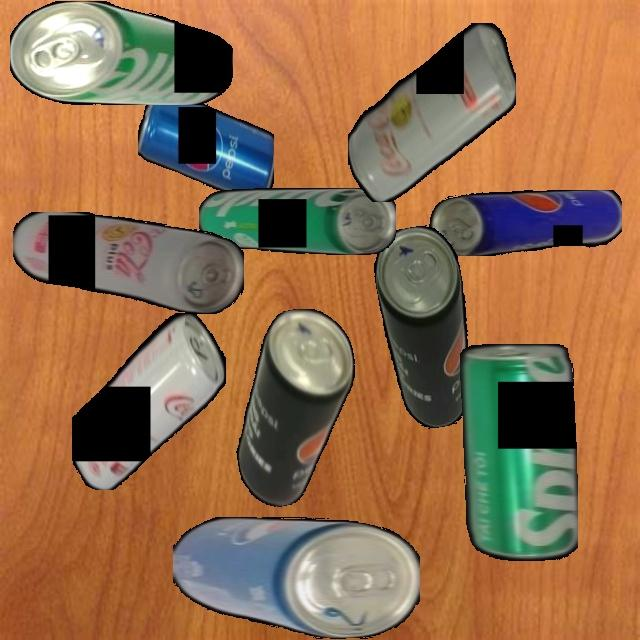debris: (214, 301, 377, 512), (347, 22, 516, 202), (172, 517, 420, 639), (71, 312, 226, 490), (459, 344, 578, 561), (368, 221, 486, 433), (12, 212, 244, 314), (10, 0, 233, 105), (137, 86, 274, 202), (198, 188, 396, 255), (429, 189, 622, 256)
